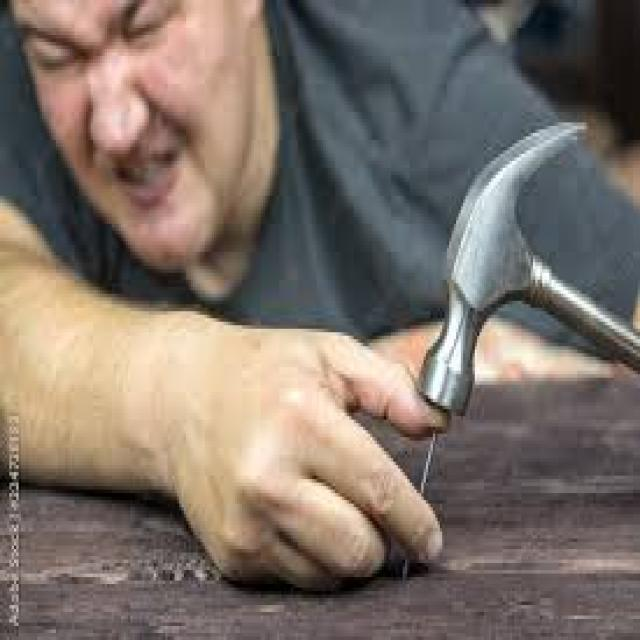hammer: (419, 114, 640, 422)
